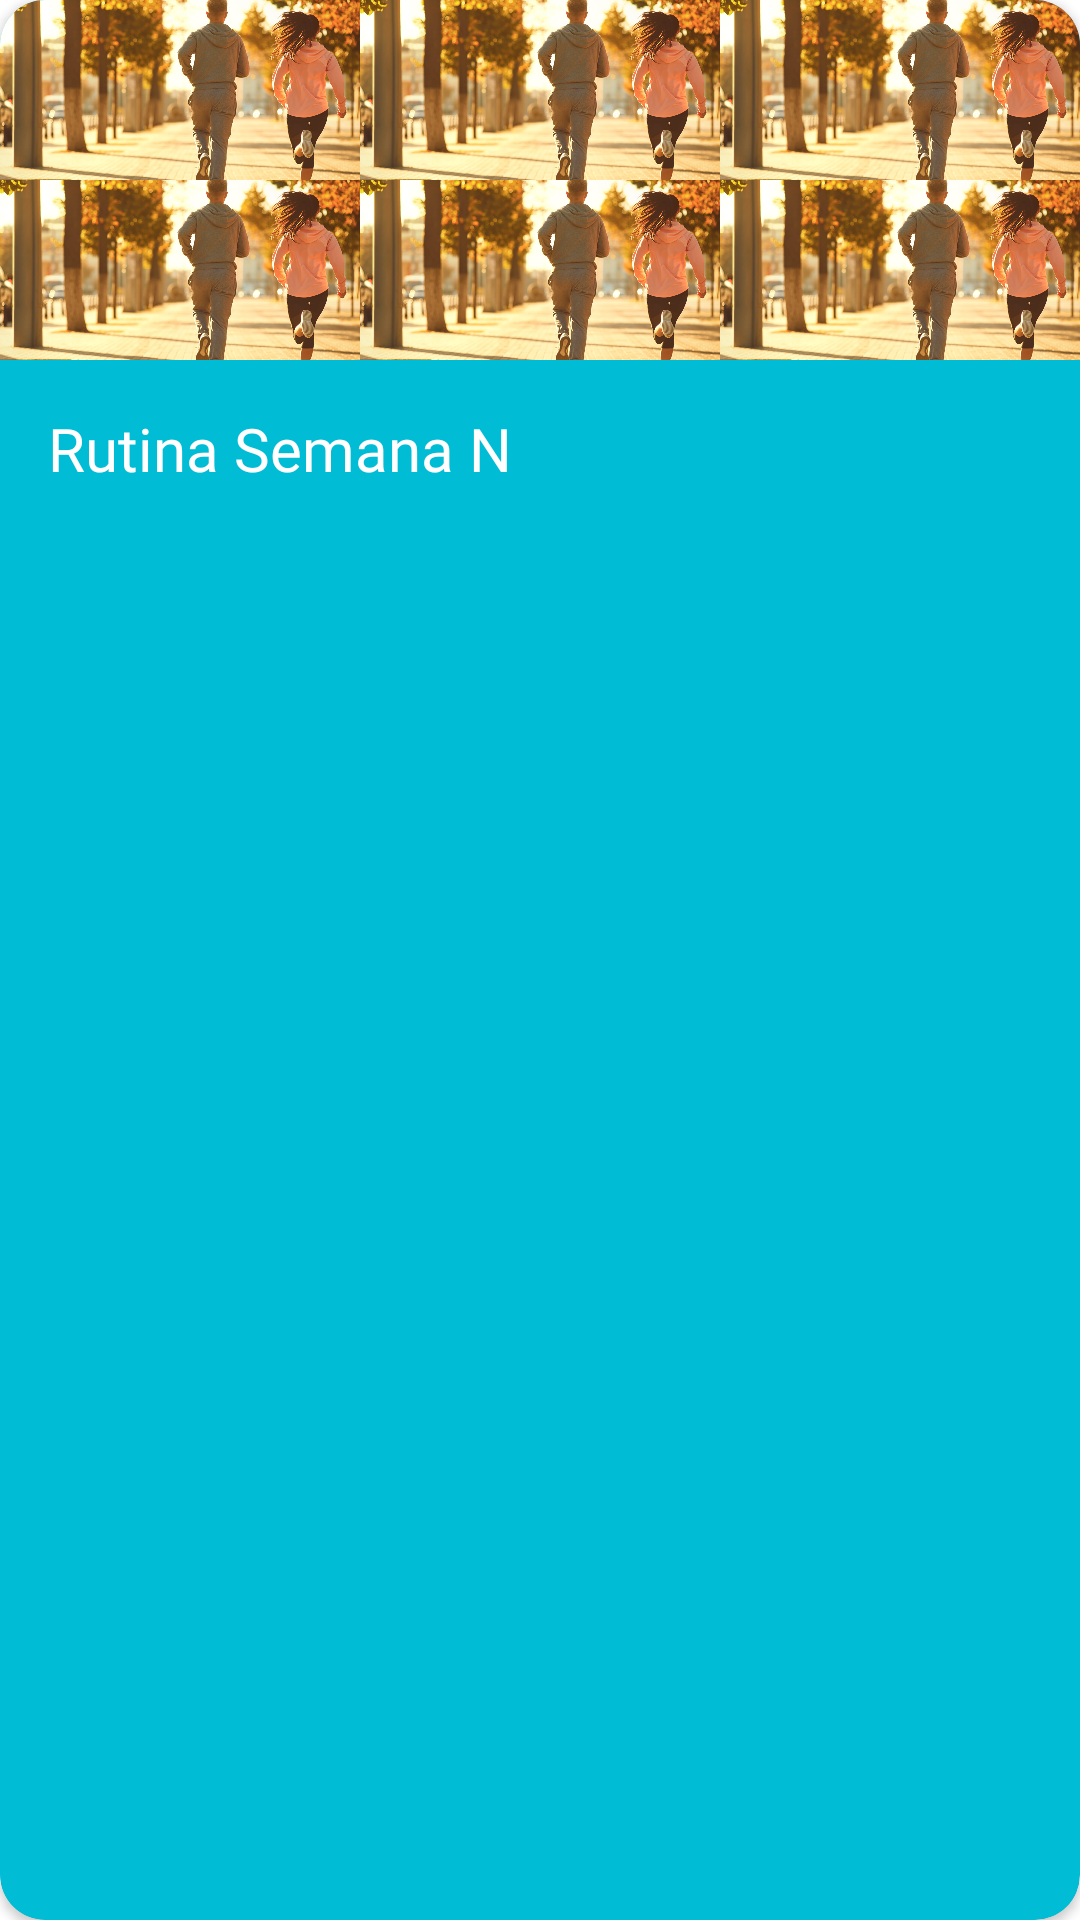

Icons on this 1080px×1920px Android screen, each with the point to tap as [x,y]:
ejercicio ejemplo: [180,90], [540,90], [900,90], [180,270], [540,270], [900,270]
